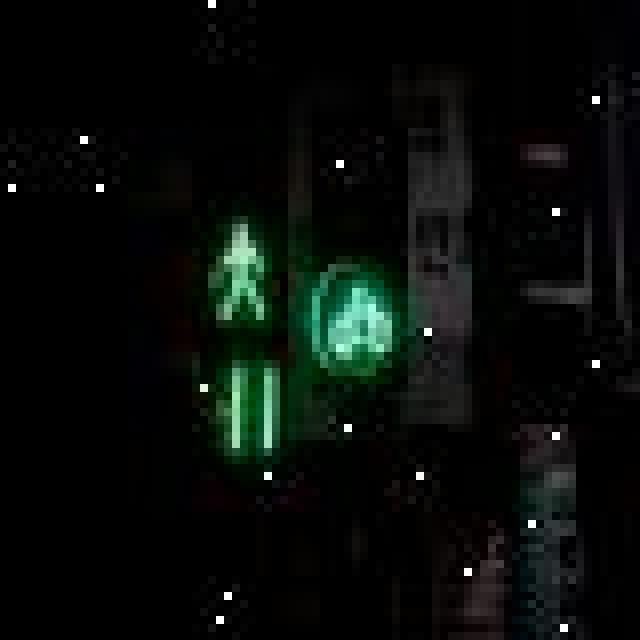greenlight: (296, 40, 424, 392), (176, 8, 296, 344)
